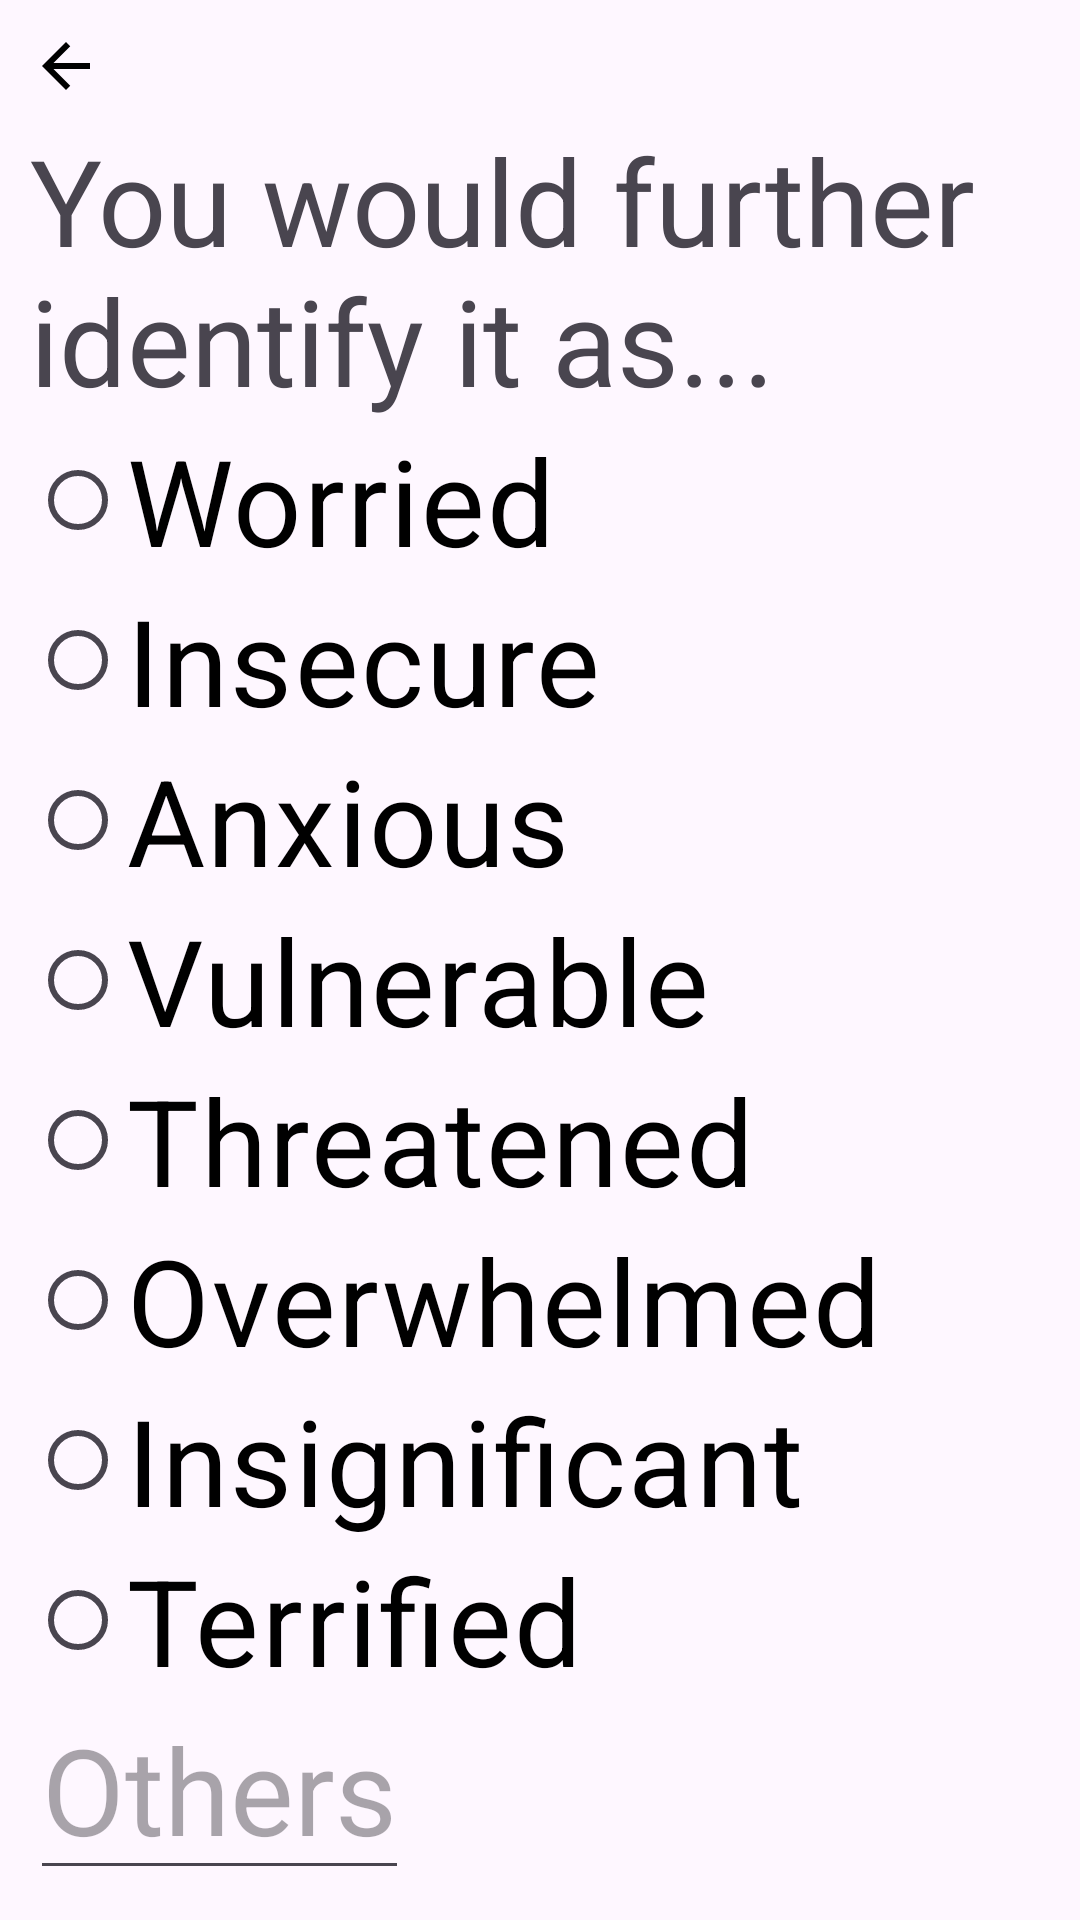

Screen size 1080px x 1920px. Icon name, then its box in pixels as region(x1, y1, x2, y2):
arrow back: region(42, 42, 90, 90)
